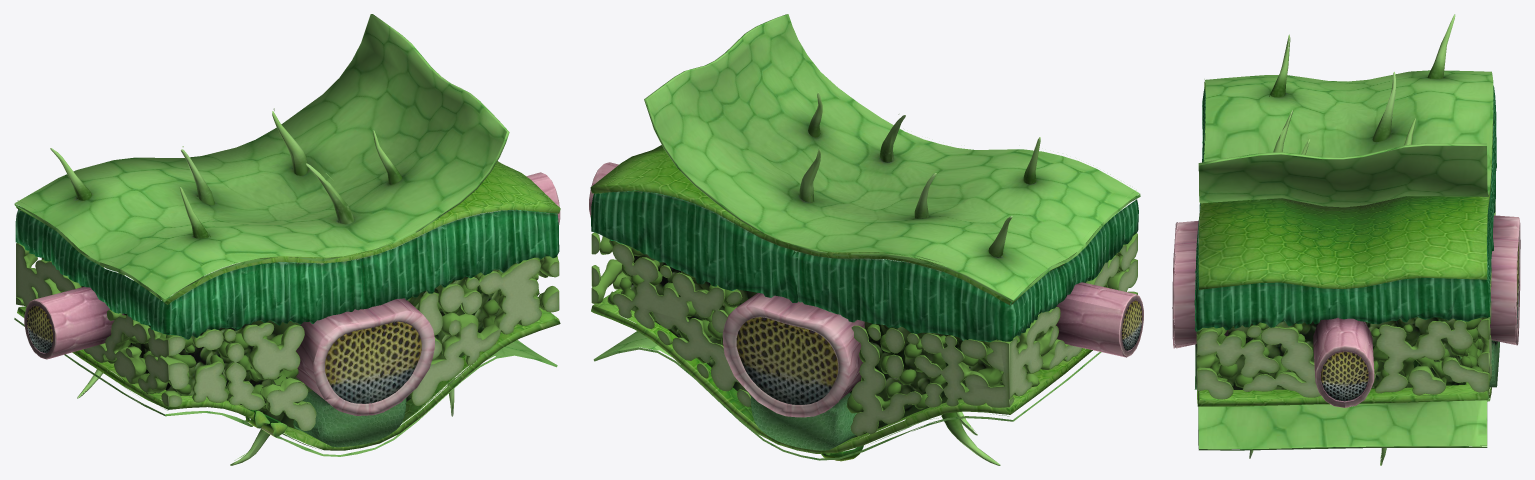
The model's file is leaf.glb.
3 views of the same model, side by side, from view 1: azimuth 30°, elevation 25°; view 2: azimuth 150°, elevation 25°; view 3: azimuth 270°, elevation 25° (orthographic). The views are drawn at different scales.
Parts seen in each view (by area): view 1: cutin, te_bao_mo_giau, leaf_cell_1, bo_mach, bieu_bi, xylem, long_la, mo_mem, leaf_cell, phloem, khi_khong; view 2: cutin, te_bao_mo_giau, leaf_cell_1, bo_mach, bieu_bi, xylem, long_la, mo_mem, phloem; view 3: cutin, bieu_bi, leaf_cell_1, te_bao_mo_giau, bo_mach, long_la, xylem, phloem, mo_mem.
Boxes of the visible parts, x1,y1,x2,y2 form: cutin: (14,14,557,456); te_bao_mo_giau: (15,206,559,339); leaf_cell_1: (16,108,559,449); bo_mach: (24,172,560,415); bieu_bi: (17,161,560,460); xylem: (27,306,421,387); long_la: (50,111,454,465); mo_mem: (293,390,406,447); leaf_cell: (262,368,316,430); phloem: (27,326,413,403); khi_khong: (249,406,287,436); cutin: (593,14,1140,461); te_bao_mo_giau: (591,181,1138,342); leaf_cell_1: (589,114,1137,437); bo_mach: (589,162,1143,417); bieu_bi: (590,145,1136,453); xylem: (736,301,1141,378); long_la: (799,92,1040,465); mo_mem: (750,392,856,450); phloem: (741,321,1141,404); cutin: (1198,70,1493,450); bieu_bi: (1197,79,1493,458); leaf_cell_1: (1173,34,1516,447); te_bao_mo_giau: (1194,80,1496,331); bo_mach: (1172,215,1520,407); long_la: (1249,14,1455,465); xylem: (1321,242,1518,384); phloem: (1321,276,1518,401); mo_mem: (1194,341,1499,389).
Bounding box in the file's own units: 3.42 × 2.2 × 1.91.
1 material, 1 textured.
